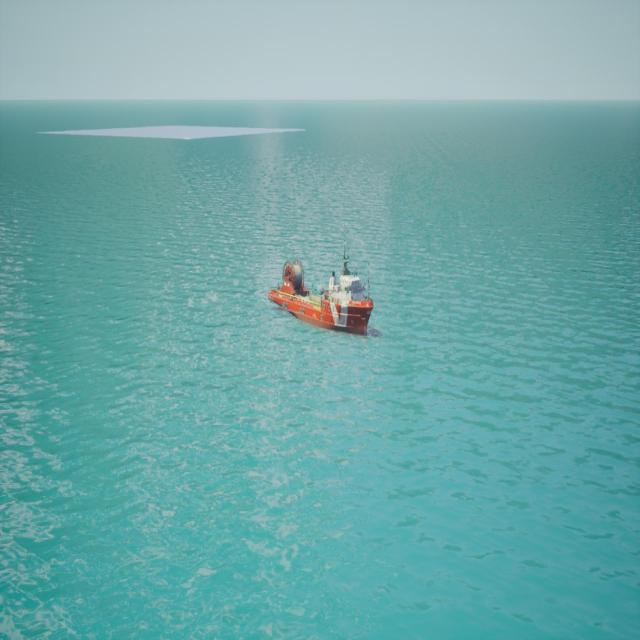tug boat: (269, 253, 378, 337)
